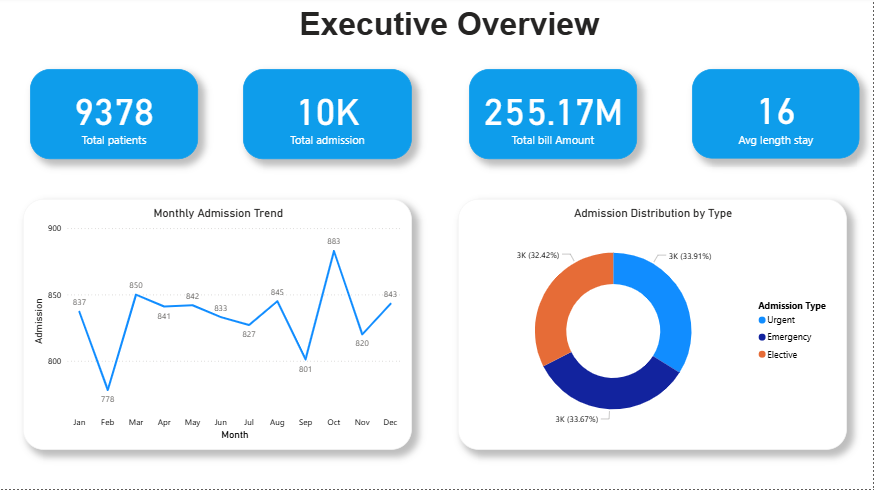

What the dashboard file says about the page in this screenshot:
{"tool":"powerbi","page":{"name":"Overview","canvas":[1280,720],"ordinal":0},"visuals":[{"type":"card","fields":{"Values":["healthcare_dataset.Total_patients"]},"box":[45.4,105.4,245.9,131.7],"z":0},{"type":"card","fields":{"Values":["healthcare_dataset.Total_admission"]},"box":[357.1,105.4,247.3,131.7],"z":1000},{"type":"card","fields":{"Values":["healthcare_dataset.Total_bill_Amount"]},"box":[687.8,105.4,245.9,131.7],"z":2000},{"type":"card","fields":{"Values":["healthcare_dataset.Avg_length_stay"]},"box":[1014.6,105.8,245.2,131],"z":3000},{"type":"textbox","title":"Executive Overview","box":[128.8,13.2,1059.5,82],"z":5000},{"type":"lineChart","title":"Monthly Admission Trend","fields":{"Category":["DateTable.Month Name"],"Y":["healthcare_dataset.Total_admission"]},"box":[35.1,295.6,569.3,367.3],"z":6000},{"type":"donutChart","title":"Admission Distribution by Type","fields":{"Y":["healthcare_dataset.Total_admission"],"Category":["healthcare_dataset.Admission Type"]},"box":[671.7,295.6,569.3,367.3],"z":7000}]}

Visuals, with their boxes in screenshot pixels (x1, y1, x2, y2), scaled from the page's 1280x720 canvas onto the 874x490 screenshot:
card - healthcare_dataset.Total_patients: locate(31, 72, 199, 161)
card - healthcare_dataset.Total_admission: locate(244, 72, 413, 161)
card - healthcare_dataset.Total_bill_Amount: locate(470, 72, 638, 161)
card - healthcare_dataset.Avg_length_stay: locate(693, 72, 860, 161)
"Executive Overview" textbox: locate(88, 9, 811, 65)
"Monthly Admission Trend" lineChart: locate(24, 201, 413, 451)
"Admission Distribution by Type" donutChart: locate(459, 201, 847, 451)
